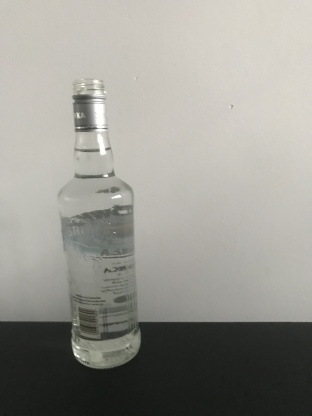nakretka: (70, 76, 109, 133)
